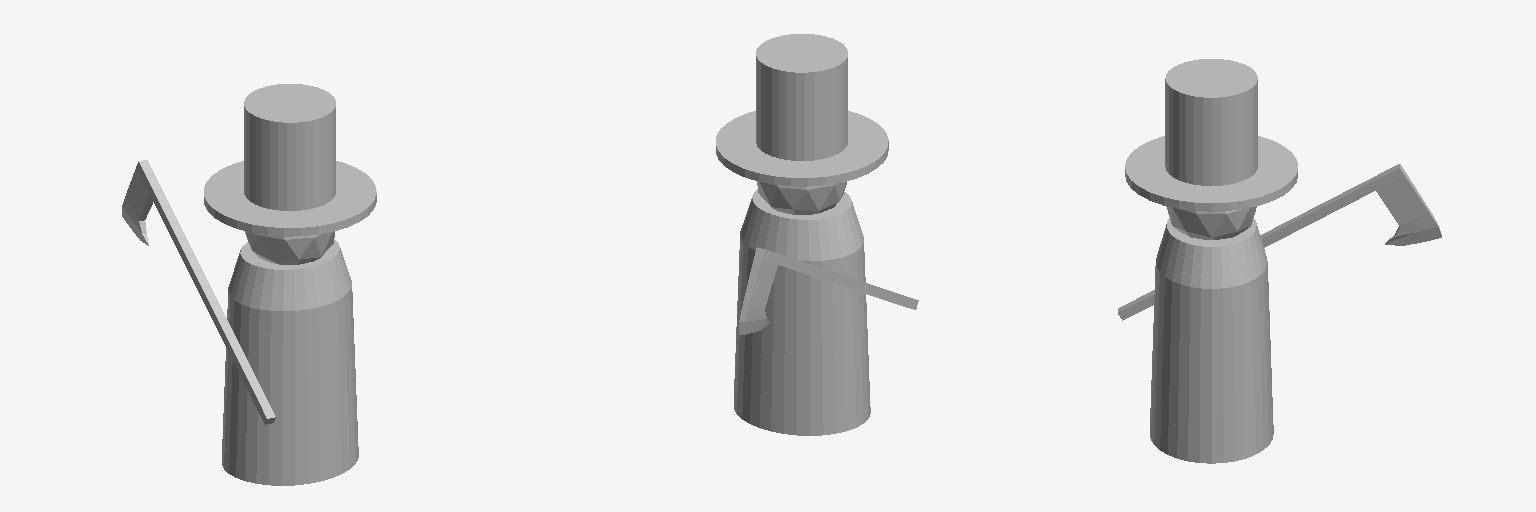
File: FancyDude.obj
3 views of the same model, side by side, from view 1: azimuth 30°, elevation 25°; view 2: azimuth 150°, elevation 25°; view 3: azimuth 270°, elevation 25° (orthographic).
Visible parts, largest first — view 1: WizzardBody_Cylinder.003, Cylinder_Cylinder.004, Cube.005_Cube.019, Icosphere_Icosphere.001; view 2: WizzardBody_Cylinder.003, Cylinder_Cylinder.004, Cube.005_Cube.019, Icosphere_Icosphere.001; view 3: WizzardBody_Cylinder.003, Cylinder_Cylinder.004, Cube.005_Cube.019, Icosphere_Icosphere.001.
Part boxes in pixels (left/top/right/bottom): WizzardBody_Cylinder.003: left=222, top=239, right=358, bottom=485; Cylinder_Cylinder.004: left=204, top=84, right=376, bottom=236; Cube.005_Cube.019: left=122, top=160, right=275, bottom=424; Icosphere_Icosphere.001: left=245, top=231, right=334, bottom=264; WizzardBody_Cylinder.003: left=734, top=189, right=870, bottom=435; Cylinder_Cylinder.004: left=716, top=34, right=888, bottom=186; Cube.005_Cube.019: left=739, top=247, right=918, bottom=334; Icosphere_Icosphere.001: left=757, top=181, right=846, bottom=214; WizzardBody_Cylinder.003: left=1150, top=218, right=1273, bottom=463; Cylinder_Cylinder.004: left=1125, top=59, right=1297, bottom=211; Cube.005_Cube.019: left=1118, top=164, right=1441, bottom=320; Icosphere_Icosphere.001: left=1166, top=206, right=1256, bottom=239.
Size of the model in its own units: 2 by 4.52 by 3.75.